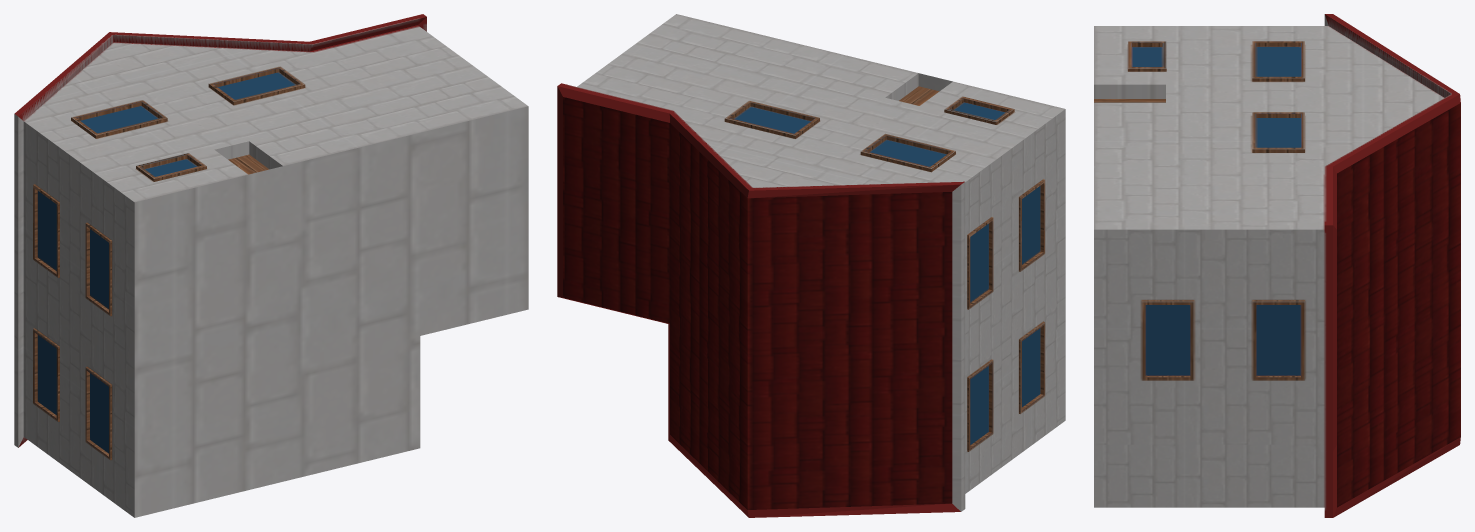
Rendered from house-03.obj.
3 renders of one model, left to right at view 1: azimuth 30°, elevation 25°; view 2: azimuth 150°, elevation 25°; view 3: azimuth 270°, elevation 25°, orthographic. The views are drawn at different scales.
Visible parts, largest first — view 1: house-03_Cube.060; view 2: house-03_Cube.060; view 3: house-03_Cube.060.
Part boxes in pixels (<box>): house-03_Cube.060: <box>14,14,528,517</box>; house-03_Cube.060: <box>557,14,1065,517</box>; house-03_Cube.060: <box>1094,14,1460,517</box>.
Bounding box in the file's own units: 7.37 × 5.71 × 5.41.
